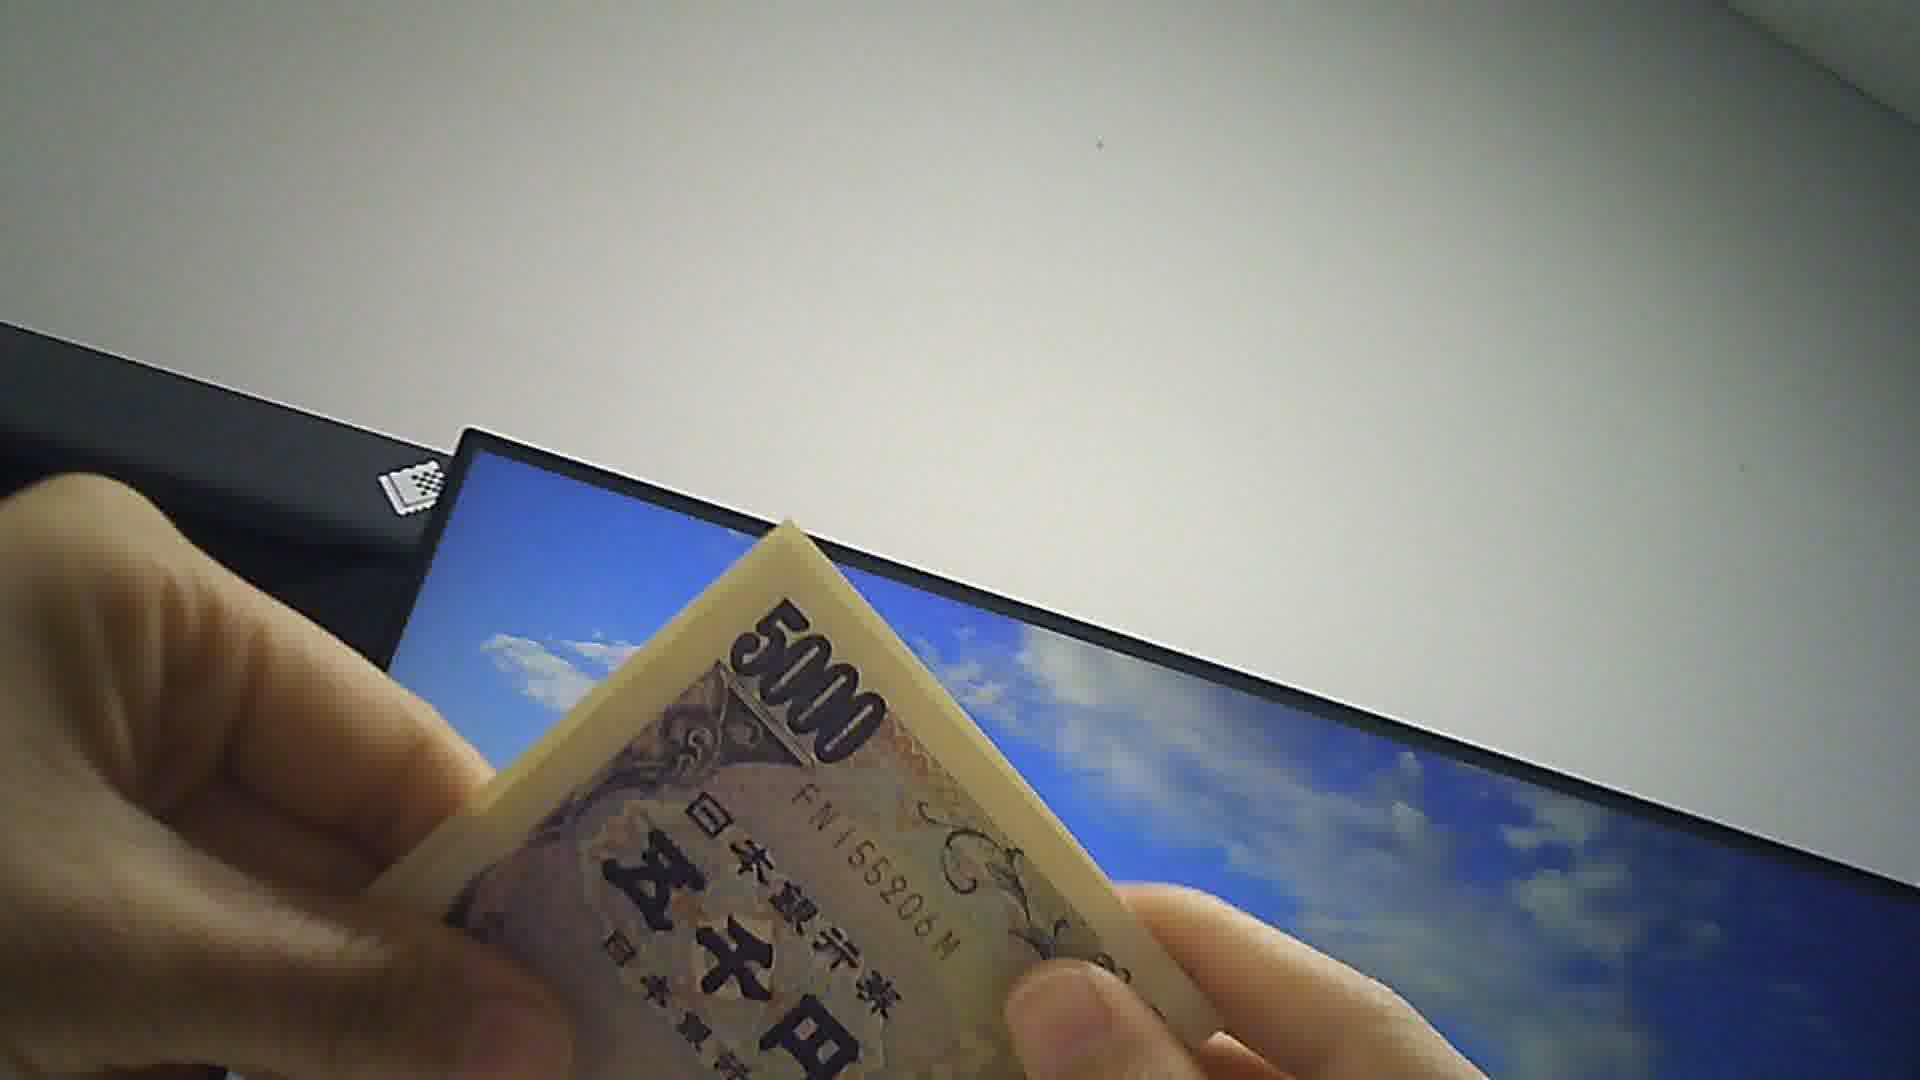5,000 Yen: (289, 517, 1237, 1075)
